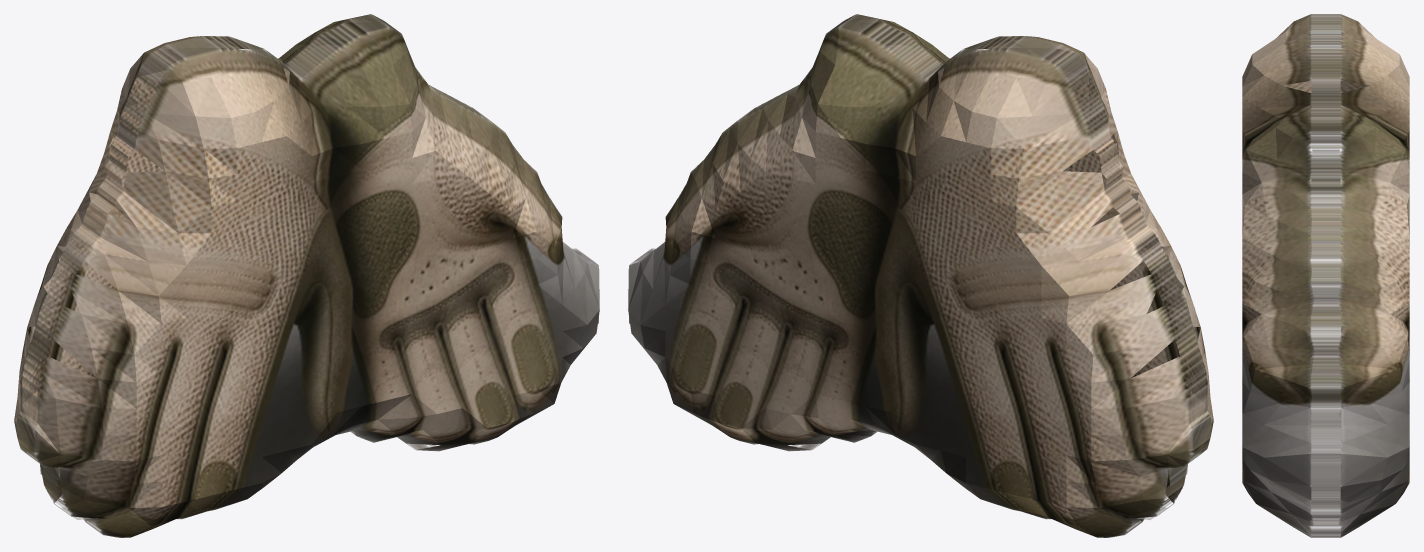
File: hjc-vantage-summer-glove-082.glb
3 renders of one model, left to right at view 1: azimuth 30°, elevation 25°; view 2: azimuth 150°, elevation 25°; view 3: azimuth 270°, elevation 25°, orthographic. The views are drawn at different scales.
Visible parts, largest first — view 1: world; view 2: world; view 3: world.
Boxes of the visible parts, <box> form: world: <box>14,14,599,537</box>; world: <box>628,14,1213,537</box>; world: <box>1242,14,1409,537</box>.
Size of the model in its own units: 1 by 0.787 by 0.3.
1 material, 1 textured.
